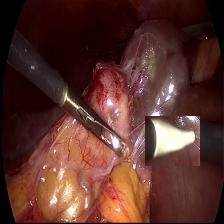Grasper: (74, 96, 132, 168), (85, 41, 117, 61)
Hook: (145, 116, 200, 167)
